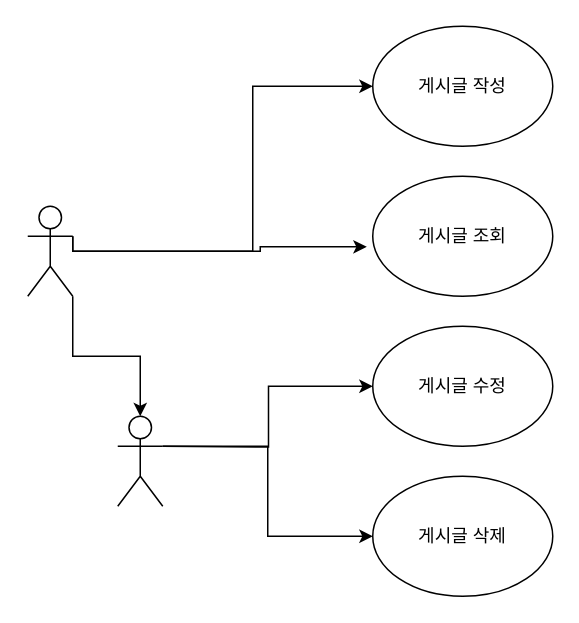
The diagram is 579 pixels wide and 623 high, and some of its shapes have lost their labels. The shapes that lost their labels are listed below. From the top down, each one's centre as x and y in pixels, then its label:
(x=49, y=250): 사용자
(x=139, y=460): 서버
